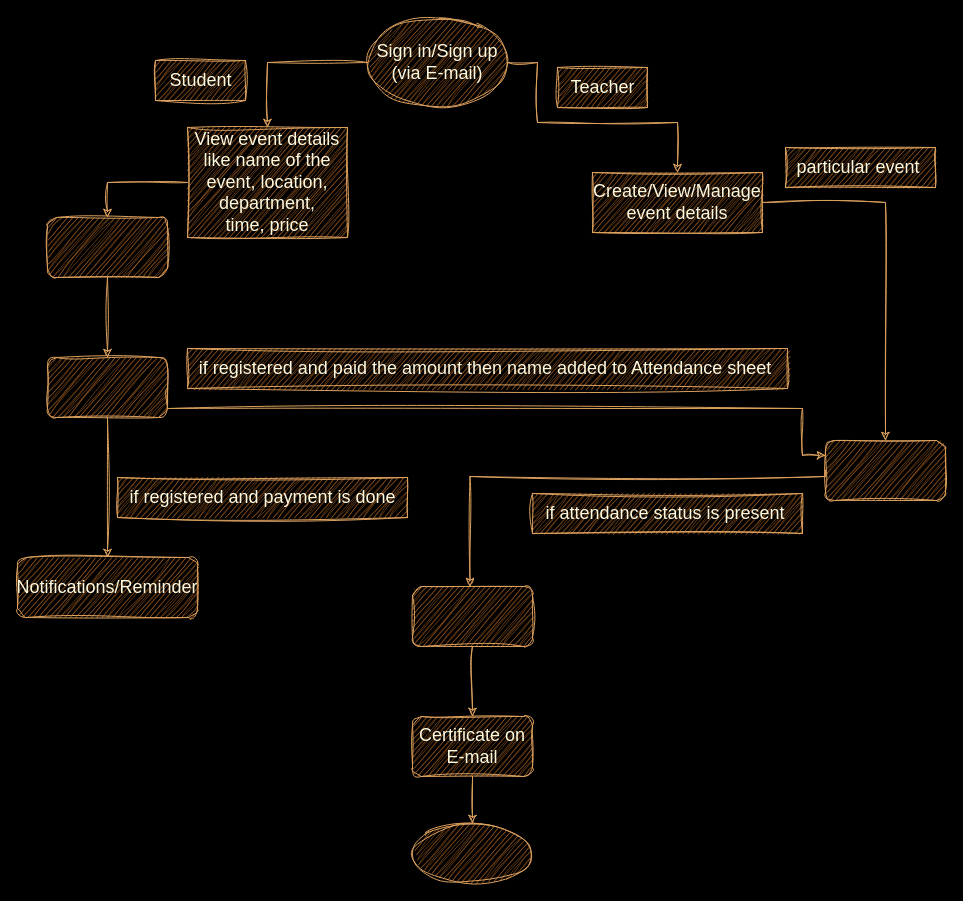
This 963x901 diagram has some shape labels left out. Each missing label, with the centre of its shape:
"Attendance" belongs at [885,470].
"End" belongs at [472,853].
"Feedback Form" belongs at [472,616].
"payment (optional)" belongs at [107,387].
"Registration via google form" belongs at [107,247].
